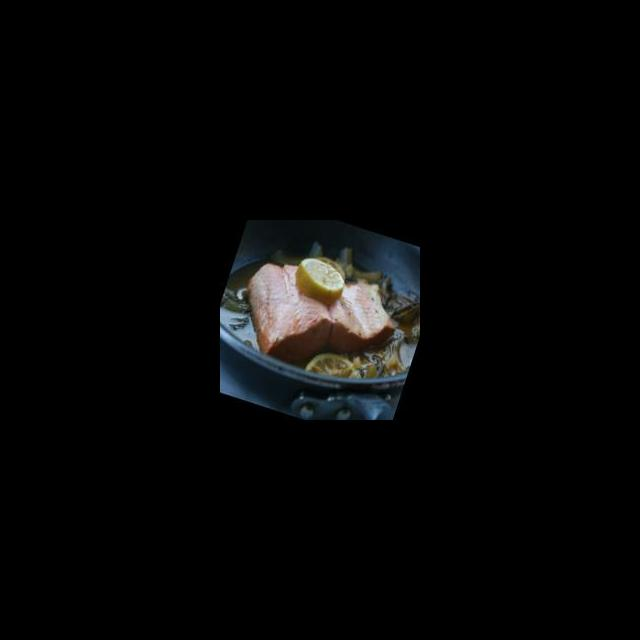ca hoi: (226, 242, 408, 394)
